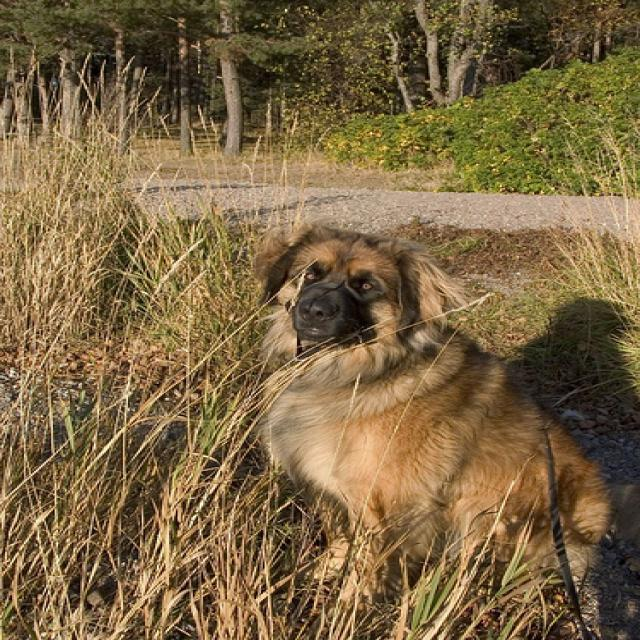dog-leonberger: (242, 215, 623, 625)
